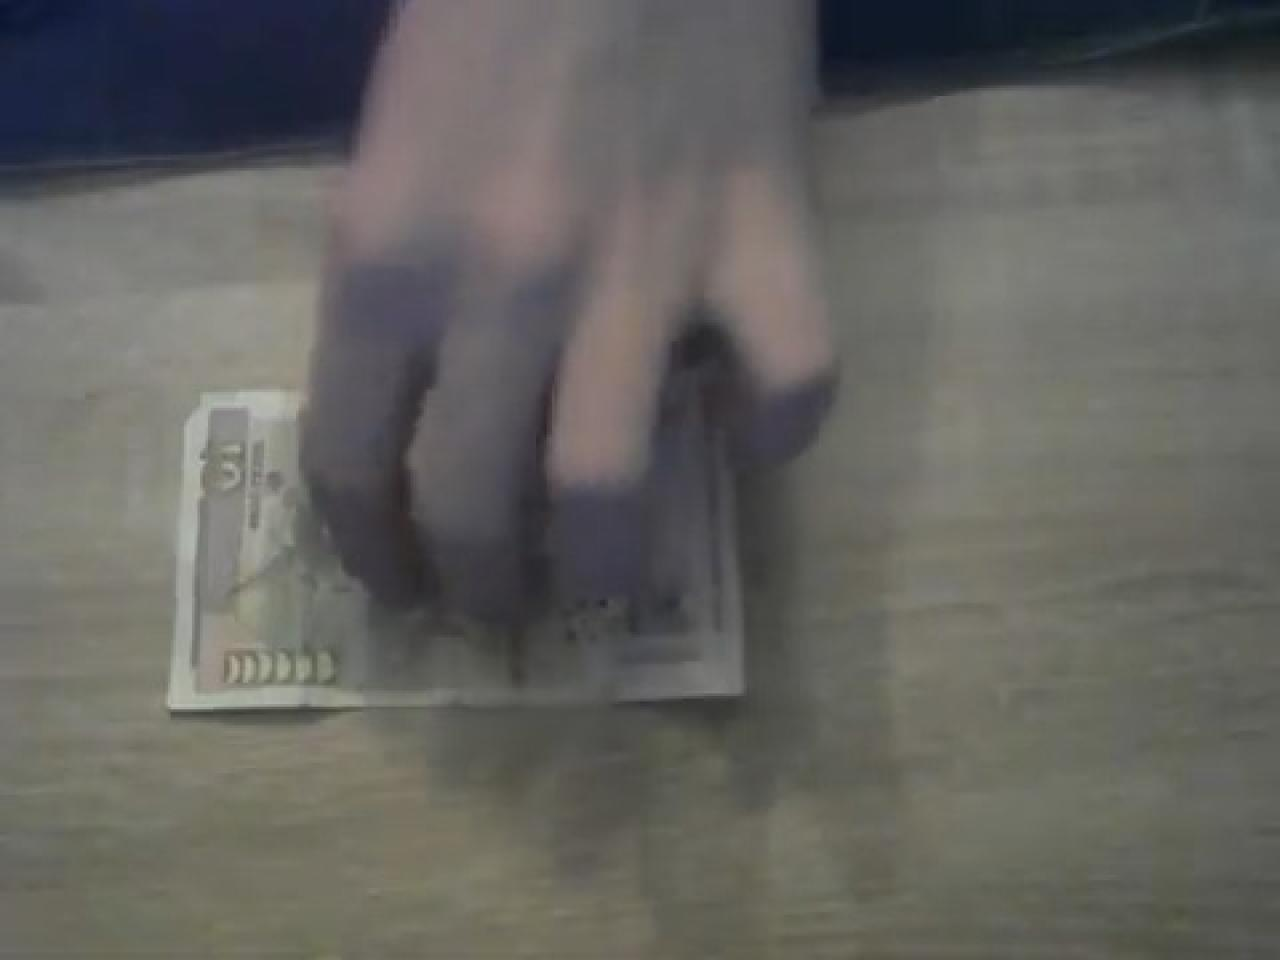10leva: (168, 389, 432, 717)
